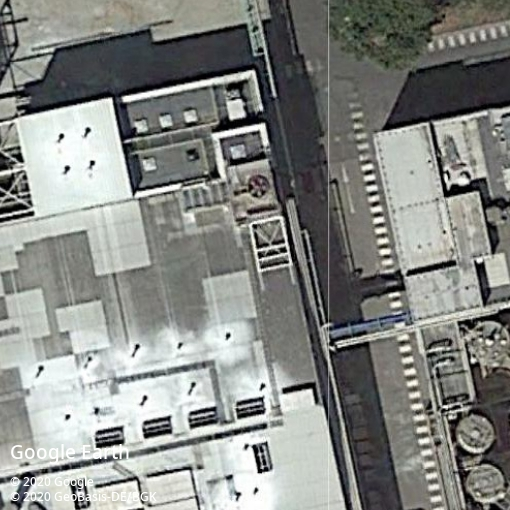Vent: (247, 175, 271, 199)
